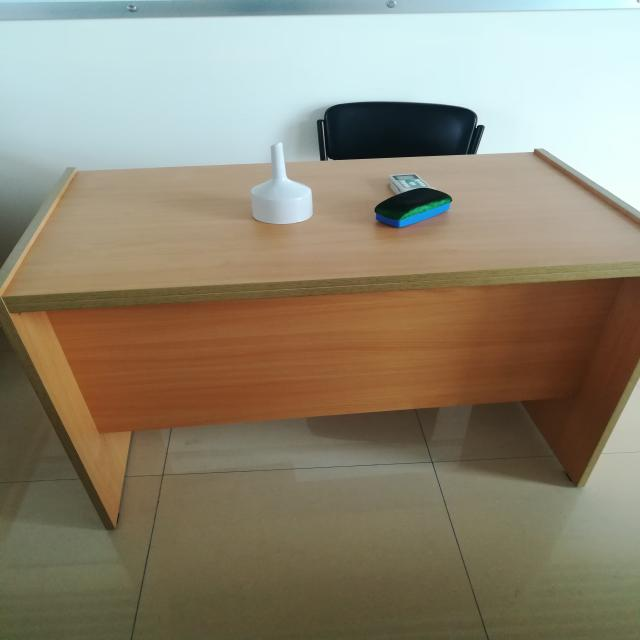Buchner_Funnel: (237, 127, 335, 248)
